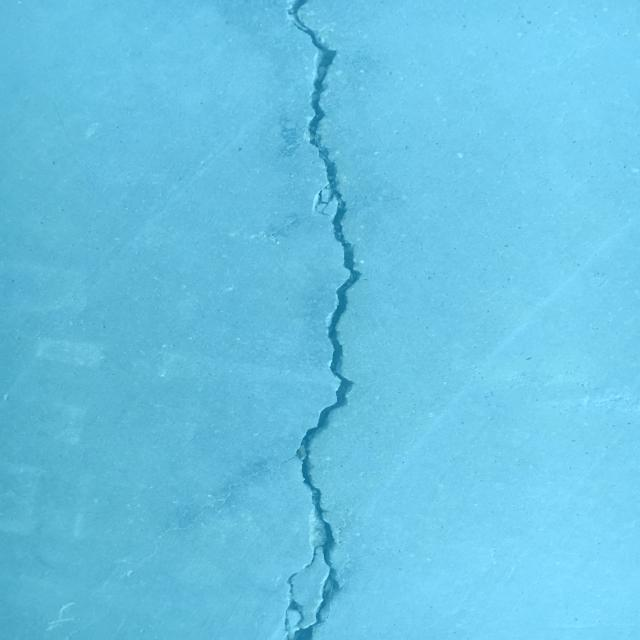crack: (274, 0, 362, 640)
